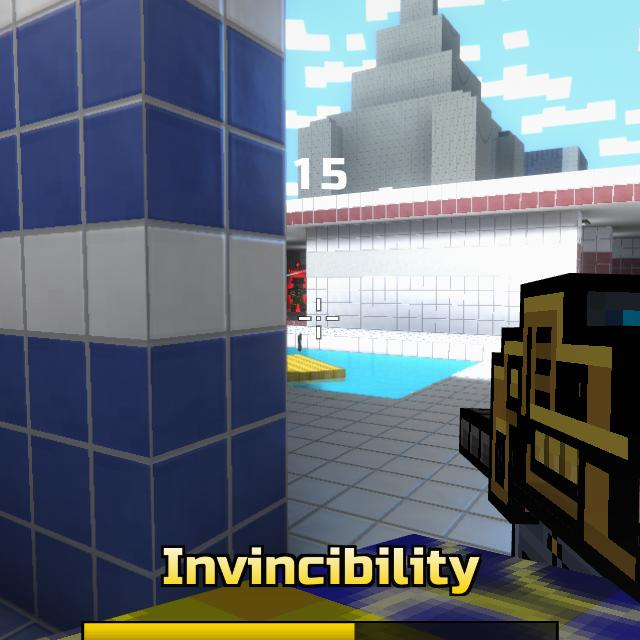Enemy: (287, 277, 306, 312)
